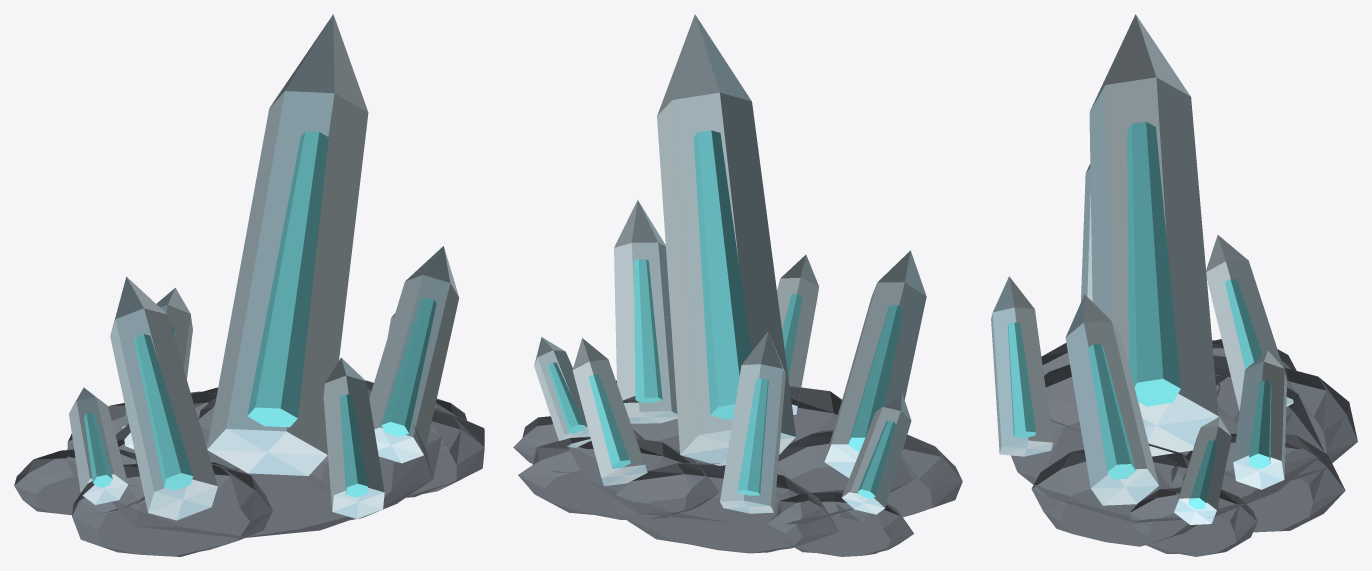
File: prop_crystal_a.gltf
3 views of the same model, side by side, from view 1: azimuth 30°, elevation 25°; view 2: azimuth 150°, elevation 25°; view 3: azimuth 270°, elevation 25° (orthographic). The views are drawn at different scales.
Parts seen in each view (by area): view 1: AlienCrystalFormation; view 2: AlienCrystalFormation; view 3: AlienCrystalFormation.
Part boxes in pixels (<box>): AlienCrystalFormation: <box>14,14,484,556</box>; AlienCrystalFormation: <box>513,14,962,556</box>; AlienCrystalFormation: <box>991,14,1357,556</box>.
Bounding box in the file's own units: 2.76 × 2.97 × 2.08.
